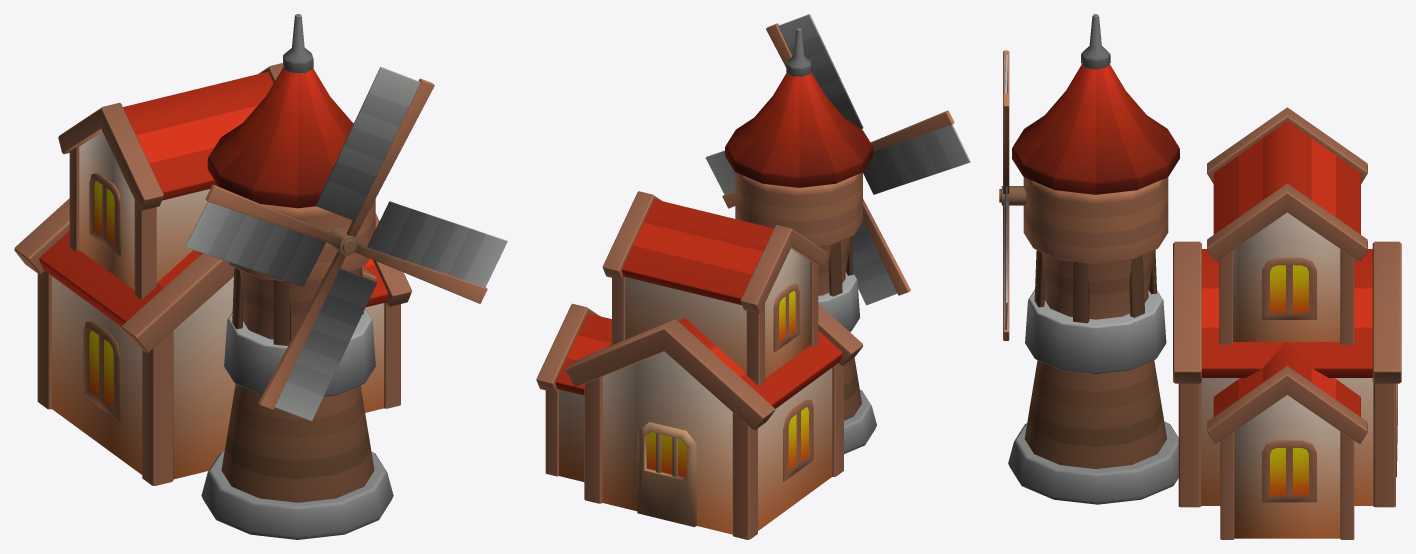
File: WindmilllHouse_1.fbx
The picture shows the model from 3 angles, left to right: view 1: azimuth 30°, elevation 25°; view 2: azimuth 150°, elevation 25°; view 3: azimuth 270°, elevation 25°; orthographic projection. The views are drawn at different scales.
Visible parts, largest first — view 1: WindmilllHouse_1; view 2: WindmilllHouse_1; view 3: WindmilllHouse_1.
Boxes of the visible parts, bbox=[...] form: WindmilllHouse_1: bbox=[14, 14, 507, 539]; WindmilllHouse_1: bbox=[536, 14, 970, 539]; WindmilllHouse_1: bbox=[999, 14, 1401, 539].
Bounding box in the file's own units: 440 × 610 × 492.
